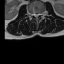CCS_normal: (35, 12, 37, 19)
LFS_normal: (40, 11, 42, 16)
LLS_normal: (37, 11, 40, 18)
RFS_normal: (30, 11, 33, 17)
RLS_normal: (33, 12, 35, 18)
